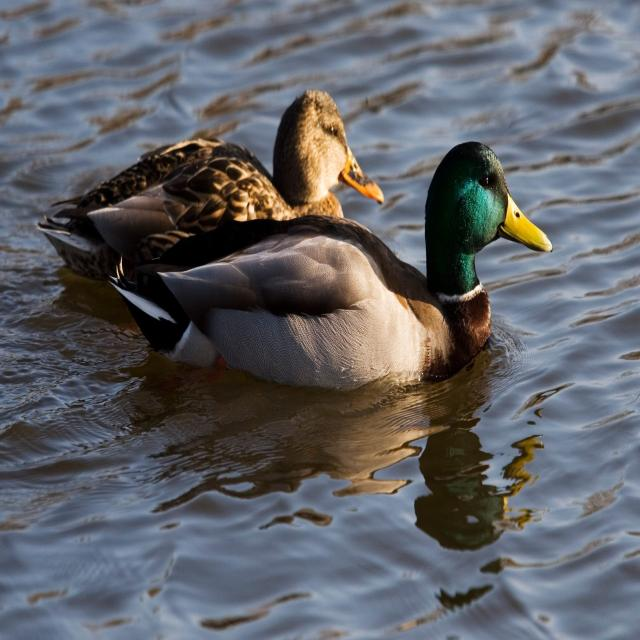Duck: (112, 128, 564, 405), (36, 82, 398, 294)
